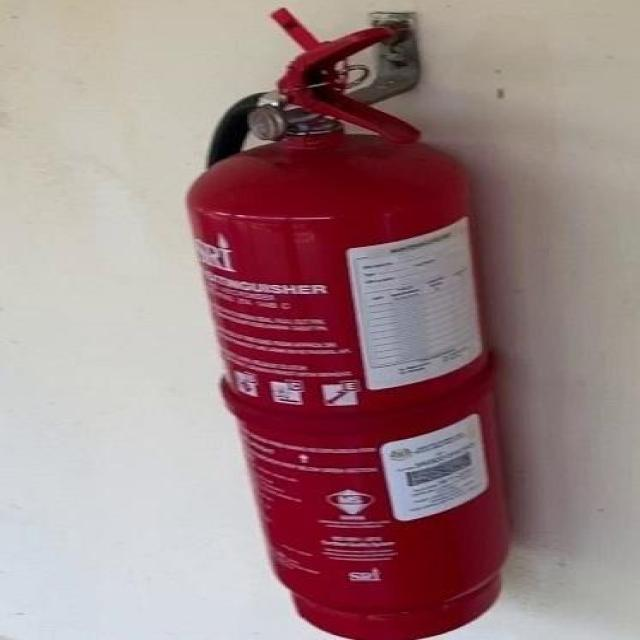fire_extinguisher: (171, 4, 522, 639)
